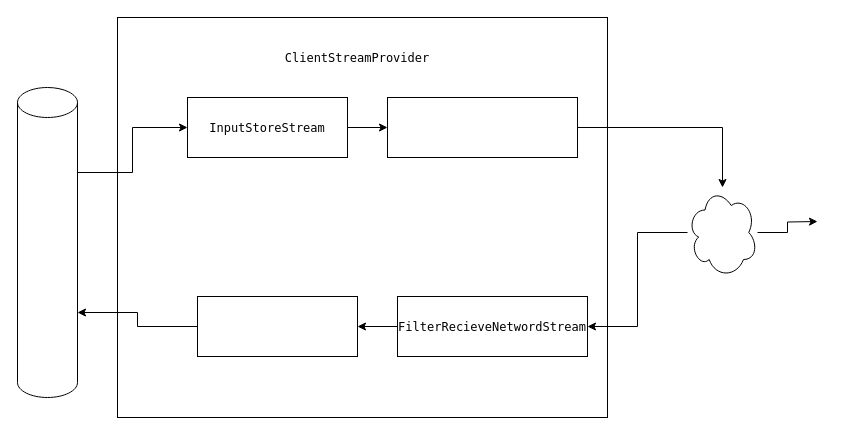
The diagram is 843 pixels wide and 443 high, and some of its shapes have lost their labels. Here are the shapes that lost their labels. From the top down, the centre of each, then its label:
At (482,127): "FilterOutputStoreStream".
At (277,326): "OutputNetworkStream".
